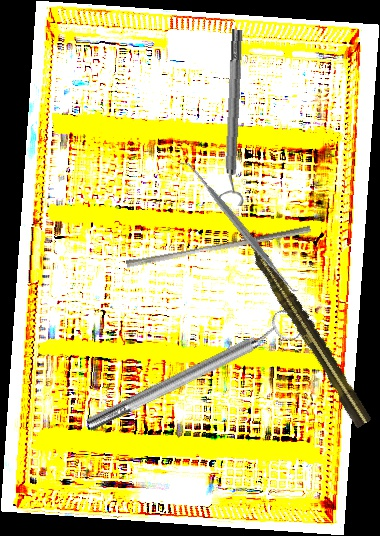Fixation Ring: (79, 306, 304, 440), (214, 28, 254, 207)
Handpiece: (237, 229, 374, 430)
Pusher: (125, 218, 312, 275)
Spatula Surgical: (177, 153, 302, 300)
